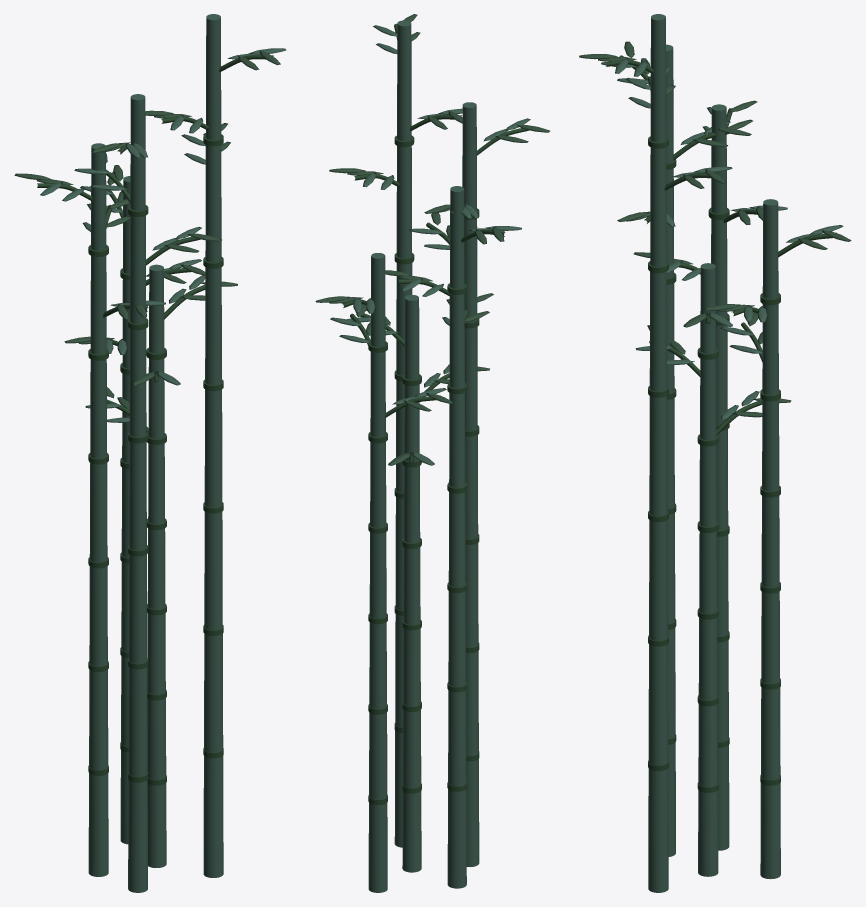
File: mia-bamboo.glb
3 views of the same model, side by side, from view 1: azimuth 30°, elevation 25°; view 2: azimuth 150°, elevation 25°; view 3: azimuth 270°, elevation 25° (orthographic). The views are drawn at different scales.
Visible parts, largest first — view 1: Body_sage, Body_cactus-shadow, Body_pine-olive; view 2: Body_sage, Body_cactus-shadow, Body_pine-olive; view 3: Body_sage, Body_cactus-shadow, Body_pine-olive.
Part boxes in pixels (bbox=[...]): Body_sage: bbox=[40, 14, 286, 892]; Body_cactus-shadow: bbox=[37, 55, 273, 785]; Body_pine-olive: bbox=[14, 51, 280, 410]; Body_sage: bbox=[330, 20, 530, 892]; Body_cactus-shadow: bbox=[342, 23, 529, 804]; Body_pine-olive: bbox=[315, 14, 549, 465]; Body_sage: bbox=[601, 14, 843, 892]; Body_cactus-shadow: bbox=[606, 55, 836, 792]; Body_pine-olive: bbox=[579, 41, 851, 417].
Bounding box in the file's own units: 1.15 × 4.6 × 1.3.
